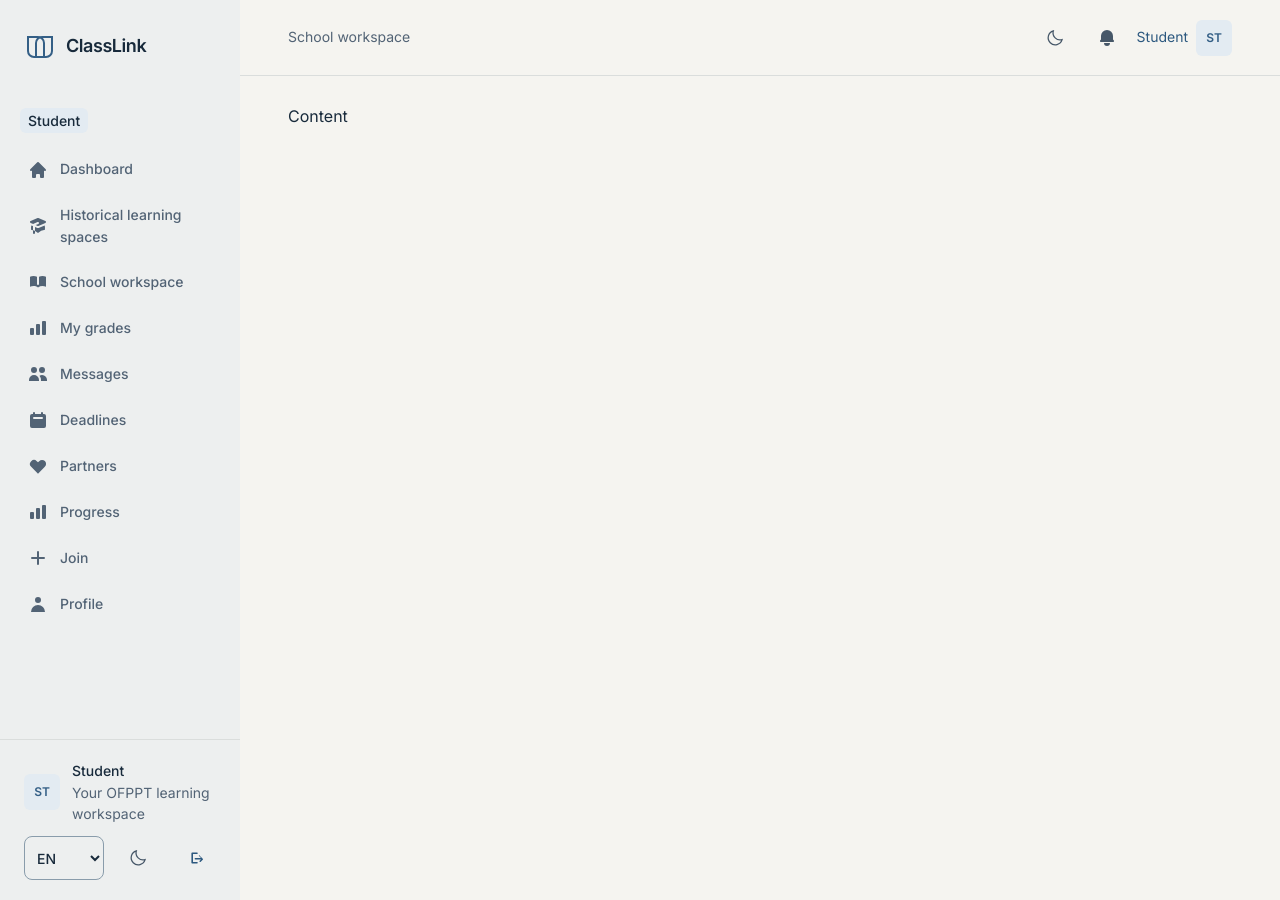
Shared accessibility and navigation › changes language immediately and preserves local preference when account saving fails
Select "FR" in the dropdown named "Interface language" at (64, 858), box [24,836,104,880]
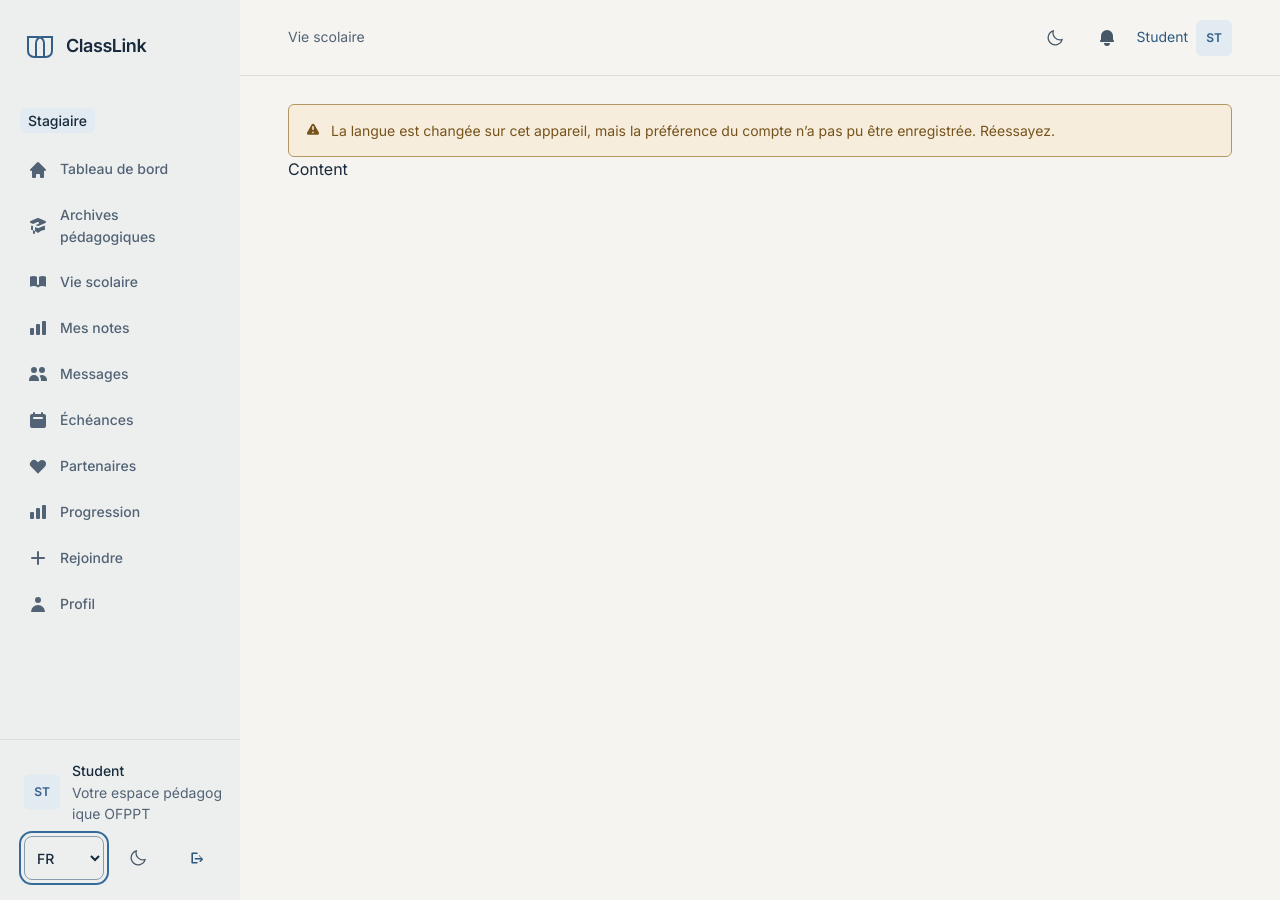
Expected: the text "Tableau de bord" is shown, [60,160,168,177]
Expected: the text "la préférence du compte" is shown, [331,122,1055,139]
